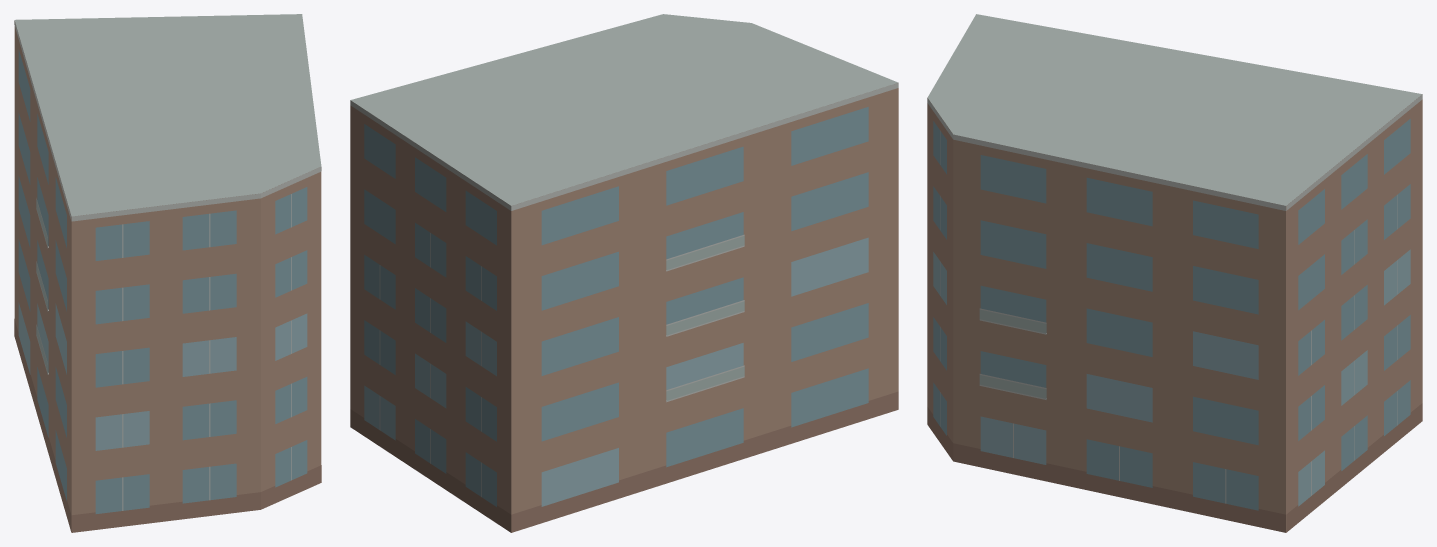
Rendered from survey-upis-32717891.glb.
3 views of the same model, side by side, from view 1: azimuth 30°, elevation 25°; view 2: azimuth 150°, elevation 25°; view 3: azimuth 270°, elevation 25° (orthographic). The views are drawn at different scales.
Visible parts, largest first — view 1: survey-upis-32717891.tmp; view 2: survey-upis-32717891.tmp; view 3: survey-upis-32717891.tmp.
Part boxes in pixels (x1=…): survey-upis-32717891.tmp: x1=14, y1=14, x2=321, y2=532; survey-upis-32717891.tmp: x1=350, y1=14, x2=898, y2=532; survey-upis-32717891.tmp: x1=927, y1=14, x2=1422, y2=532.
Bounding box in the file's own units: 19.4 × 15.4 × 21.14.
